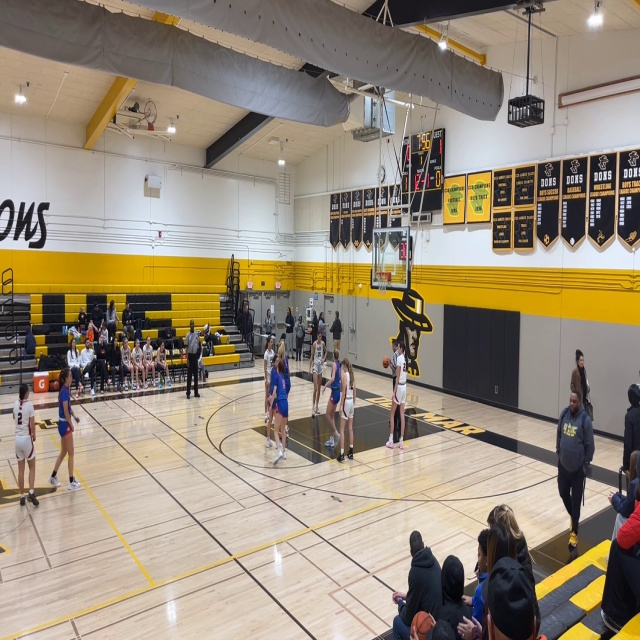Basketball: (411, 611, 436, 636), (382, 357, 389, 368)
